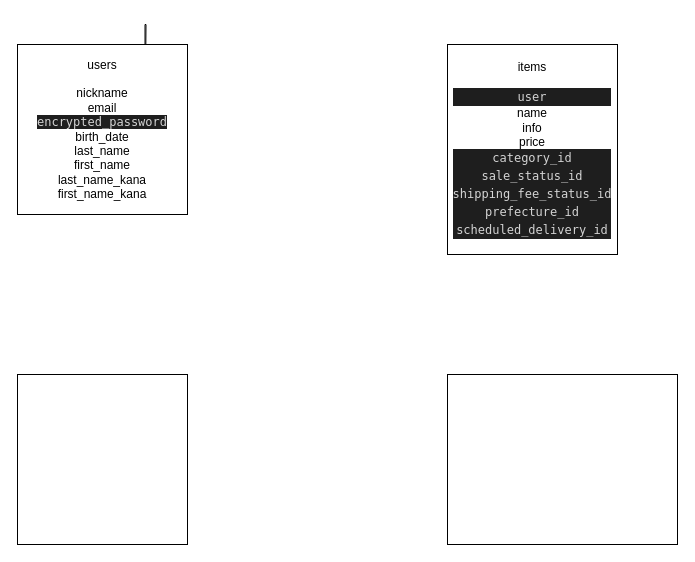
This 695x562 diagram has some shape labels left out. The box of each missing label's shape, as (x1, y1, x2, y2) in pixels:
address postal_code prefecture_id city house_num building_name phone_num: (446, 374, 678, 544)
purchase_record buyer item: (16, 374, 188, 544)
